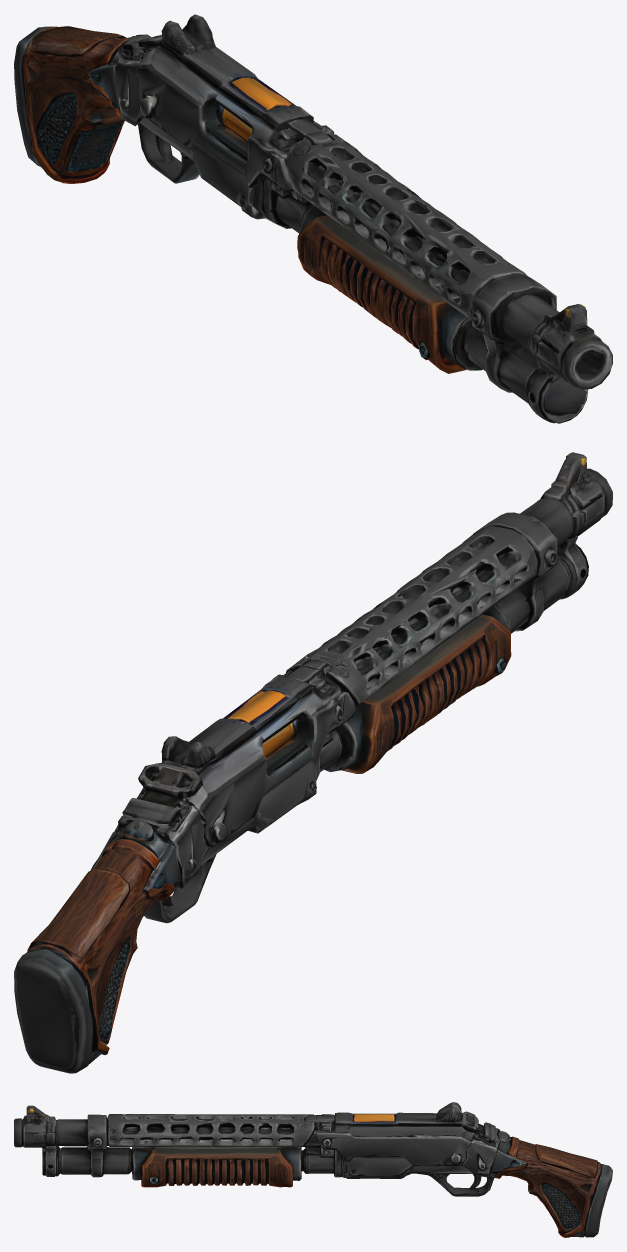
The model's file is wpn_sg_mauler.glb.
The picture shows the model from 3 angles, top to bottom: view 1: azimuth 30°, elevation 25°; view 2: azimuth 150°, elevation 25°; view 3: azimuth 270°, elevation 25°; orthographic projection. The views are drawn at different scales.
Parts seen in each view (by area): view 1: body, pump; view 2: body, pump; view 3: body, pump.
Part boxes in pixels (x1=…): body: x1=14, y1=14, x2=612, y2=423; pump: x1=297, y1=205, x2=482, y2=373; body: x1=14, y1=452, x2=612, y2=1073; pump: x1=324, y1=605, x2=511, y2=773; body: x1=14, y1=1102, x2=612, y2=1237; pump: x1=133, y1=1146, x2=301, y2=1187.
Bounding box in the file's own units: 0.0842 × 0.23 × 0.9798.
1 material, 1 textured.
